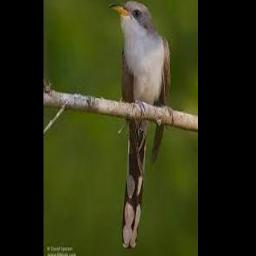Cuckoo: (107, 1, 170, 249)
